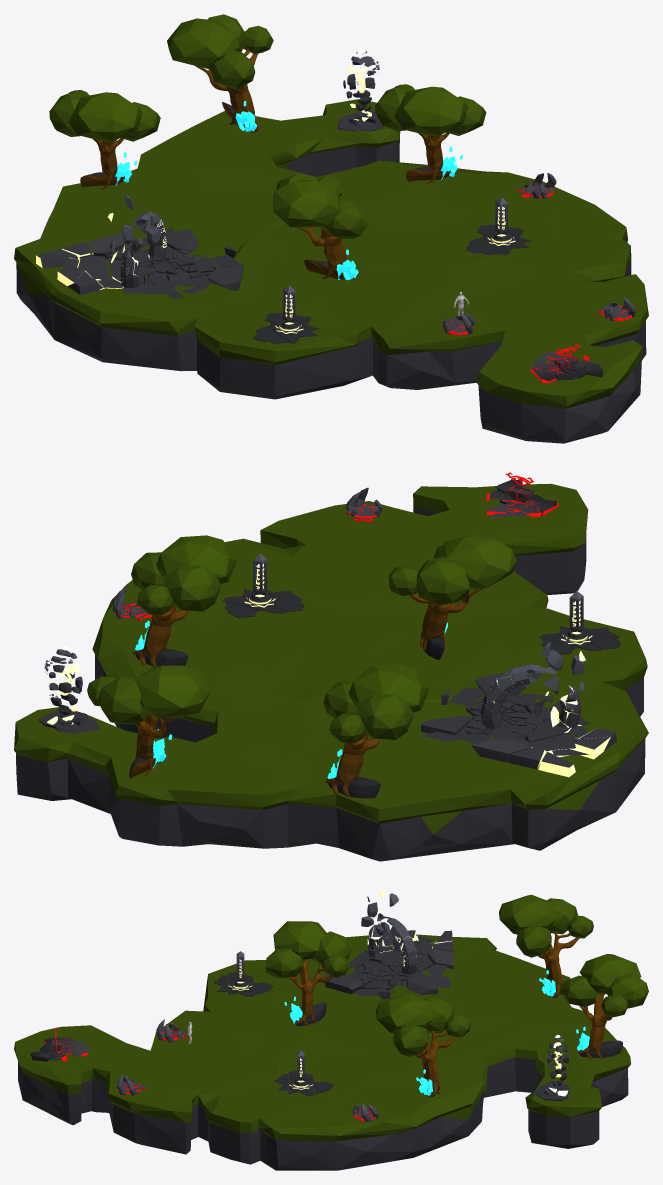
The model's file is mapafinal3juego.fbx.
3 renders of one model, top to bottom at view 1: azimuth 30°, elevation 25°; view 2: azimuth 150°, elevation 25°; view 3: azimuth 270°, elevation 25°, orthographic. The views are drawn at different scales.
Visible parts, largest first — view 1: floating_island_1.1, Torus.001_cell.031, Plane.003, Plane, Plane.002, Plane.001, Icosphere_cell, Cube_cell.003, Text.003, Text.001, Circle_cell.003; view 2: floating_island_1.1, Torus.001_cell.031, Plane.002, Plane.001, Plane, Plane.003, Icosphere_cell, Cube_cell.003, Text.001, Text.003, Circle_cell.002, Circle_cell.003; view 3: floating_island_1.1, Torus.001_cell.031, Plane.003, Plane, Plane.001, Plane.002, Icosphere_cell, Cube_cell.003, Text.001, Text.003, Circle_cell.001.
Boxes of the visible parts, x1,y1,x2,y2 form: floating_island_1.1: [14, 99, 648, 443]; Torus.001_cell.031: [36, 196, 243, 299]; Plane.003: [167, 14, 273, 133]; Plane: [273, 173, 368, 280]; Plane.002: [49, 90, 160, 189]; Plane.001: [375, 84, 486, 183]; Icosphere_cell: [337, 49, 383, 131]; Cube_cell.003: [531, 344, 603, 383]; Text.003: [253, 312, 319, 343]; Text.001: [465, 224, 531, 255]; Circle_cell.003: [518, 173, 556, 198]; floating_island_1.1: [14, 483, 648, 861]; Torus.001_cell.031: [421, 637, 616, 777]; Plane.002: [323, 664, 429, 798]; Plane.001: [131, 535, 236, 667]; Plane: [389, 533, 516, 659]; Plane.003: [87, 665, 210, 779]; Icosphere_cell: [39, 646, 99, 733]; Cube_cell.003: [486, 472, 558, 517]; Text.001: [222, 589, 303, 618]; Text.003: [539, 626, 620, 654]; Circle_cell.002: [346, 487, 381, 522]; Circle_cell.003: [112, 587, 151, 620]; floating_island_1.1: [14, 934, 631, 1170]; Torus.001_cell.031: [325, 890, 453, 999]; Plane.003: [559, 954, 648, 1058]; Plane: [265, 921, 351, 1026]; Plane.001: [376, 994, 470, 1097]; Plane.002: [499, 894, 593, 997]; Icosphere_cell: [535, 1035, 570, 1100]; Cube_cell.003: [30, 1028, 91, 1061]; Text.001: [274, 1071, 333, 1096]; Text.003: [213, 972, 273, 996]; Circle_cell.001: [156, 1019, 186, 1042].
Size of the model in its own units: 1797 by 540 by 2431.
Materials: 2 (1 with a texture image).
